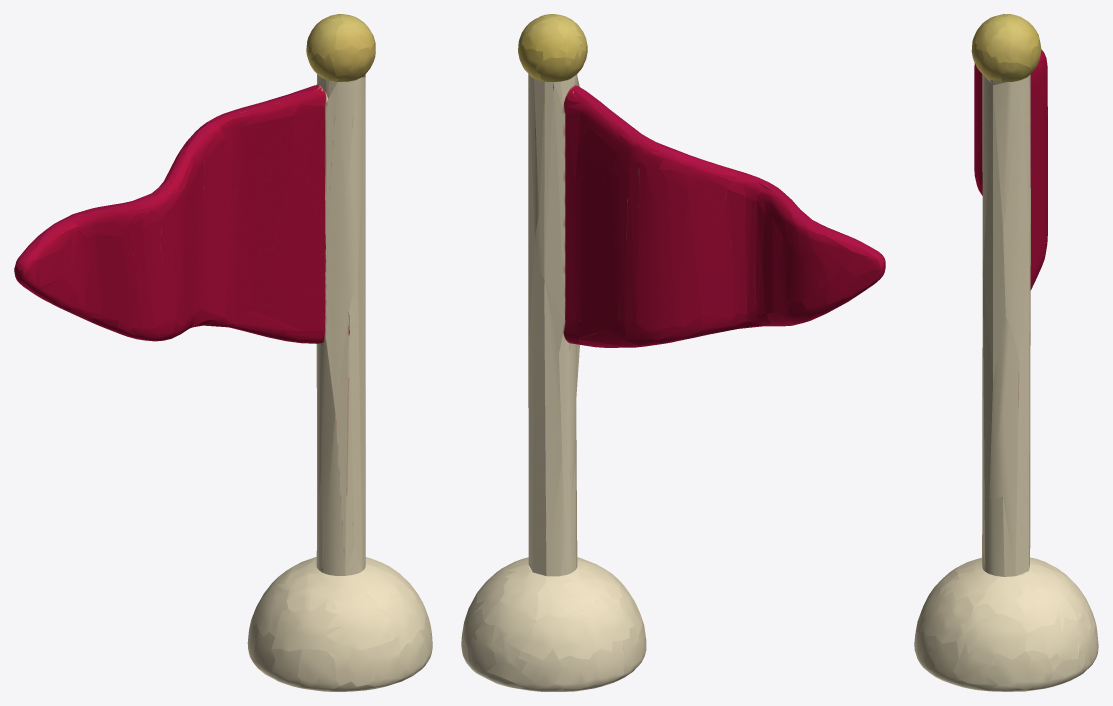
Rendered from checkpoint_flag.glb.
3 renders of one model, left to right at view 1: azimuth 30°, elevation 25°; view 2: azimuth 150°, elevation 25°; view 3: azimuth 270°, elevation 25°, orthographic.
Bounding box in the file's own units: 1.27 × 1.9 × 0.4961.
Materials: 1 (1 with a texture image).
